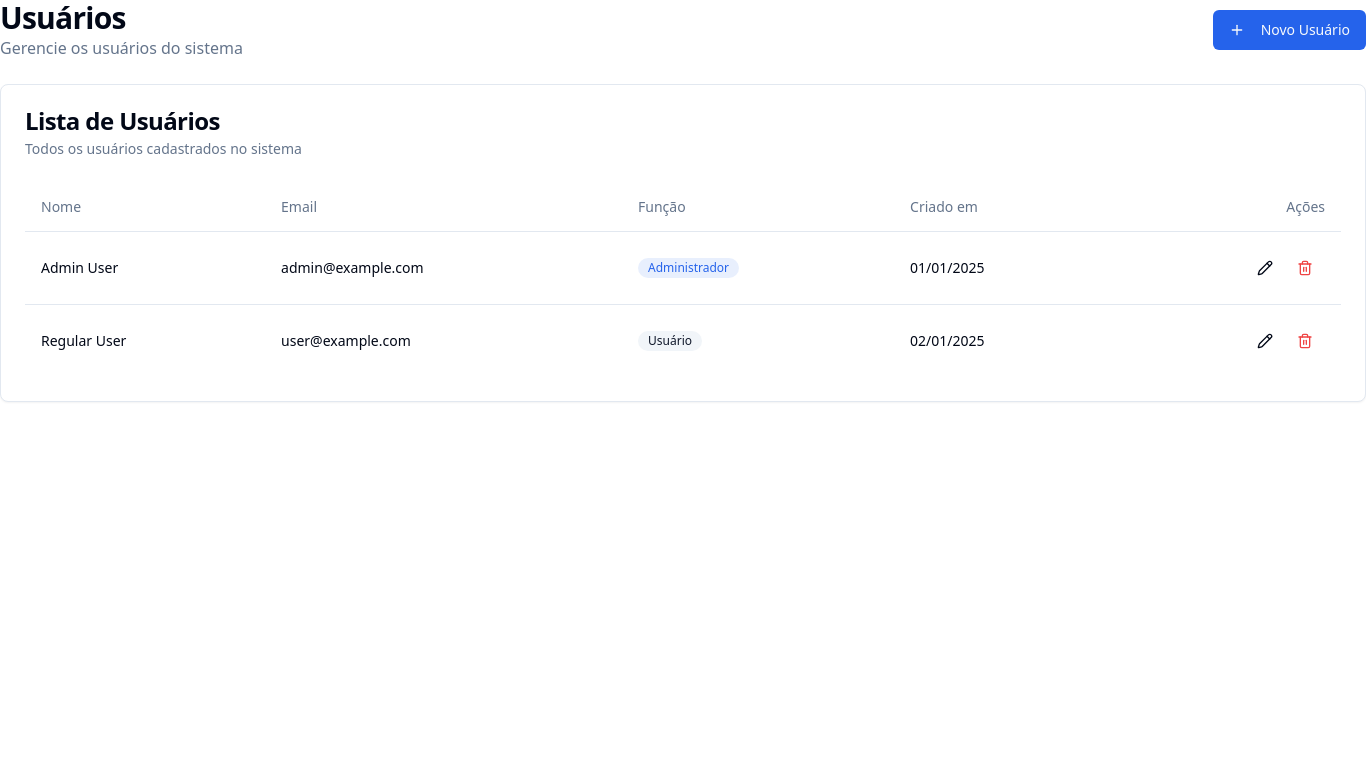
Users › CRUD Operations › should open delete confirmation dialog
Expected: the text "Admin User" is shown, [25, 231, 265, 304]
Click the button named "Deletar Admin User" at {"x": 1305, "y": 268}, box [1285, 248, 1325, 288]
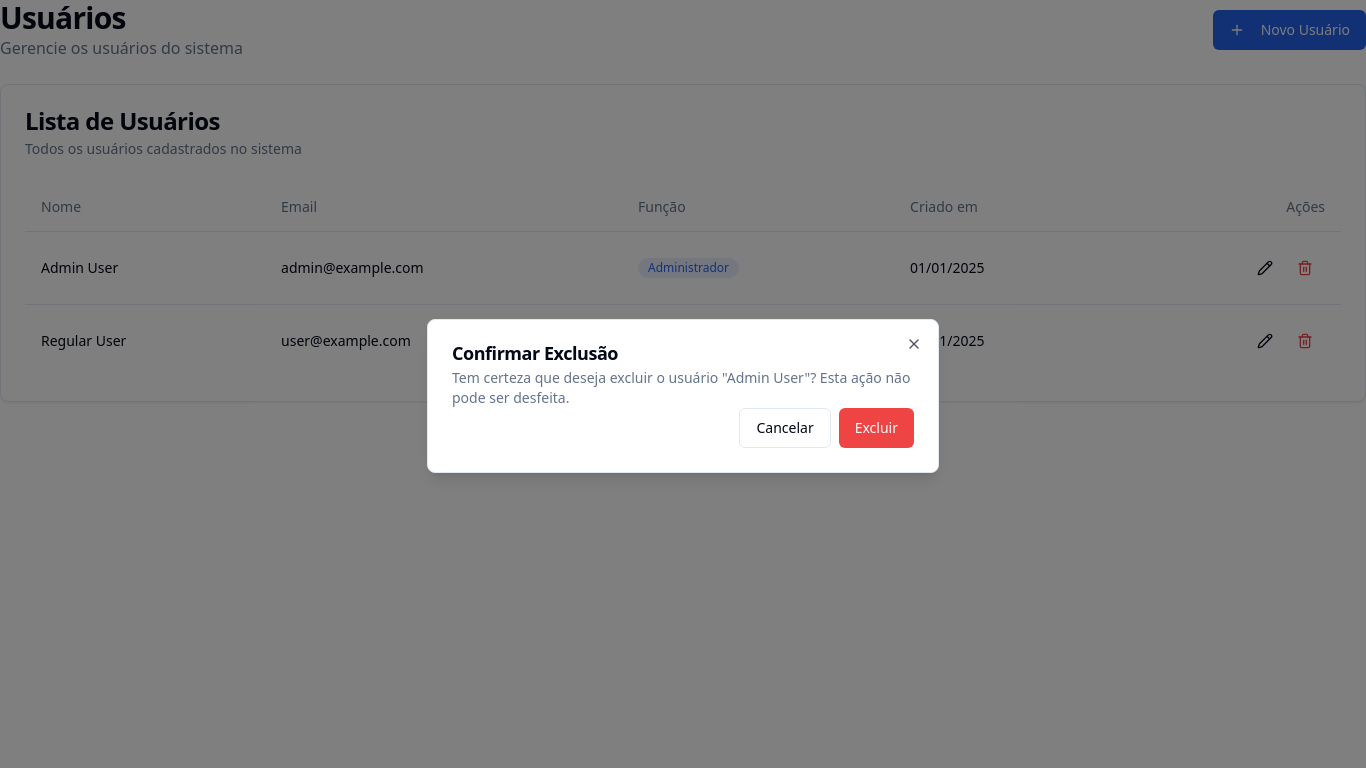
Result: the heading "Confirmar Exclusão" is shown at [452, 341, 618, 365]
Result: the text "Tem certeza que deseja excluir o usuário \"Admin User\"" is shown at [452, 368, 914, 408]
